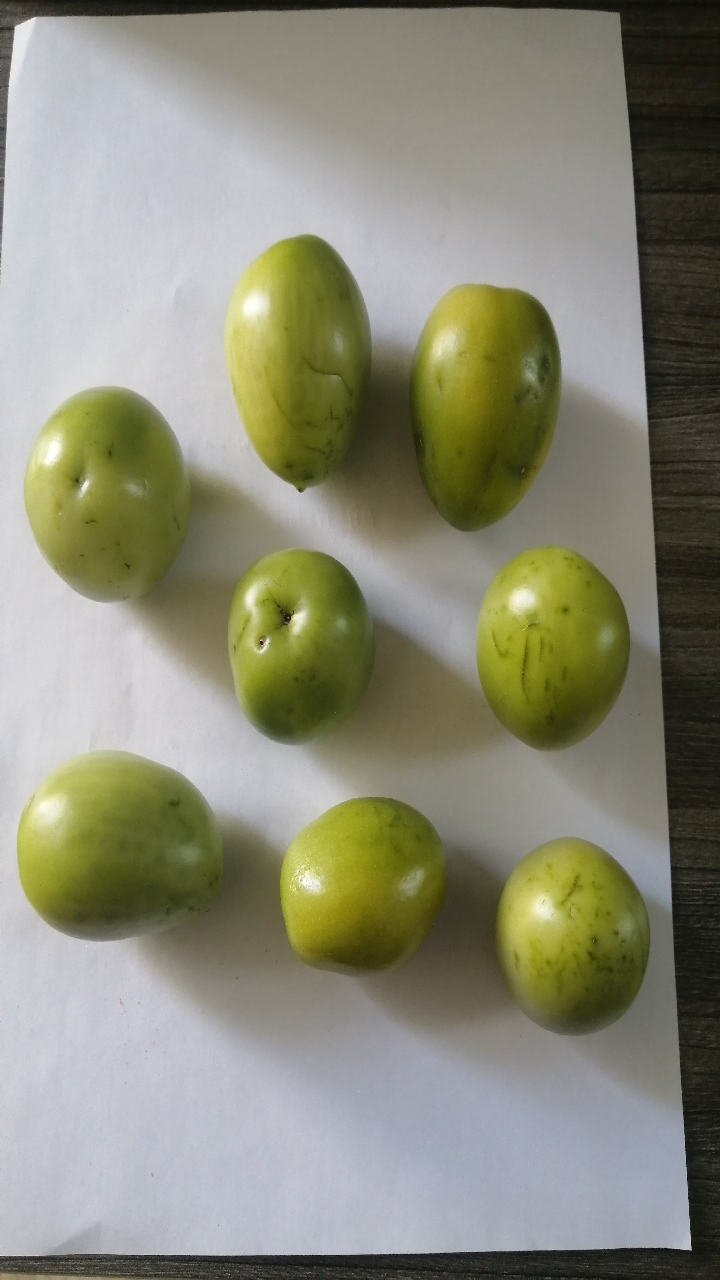tomateVerde: (389, 226, 584, 534), (8, 734, 244, 975), (8, 368, 204, 634), (438, 526, 644, 779), (208, 212, 377, 511), (257, 774, 464, 1003), (474, 826, 675, 1049), (208, 532, 406, 757)
